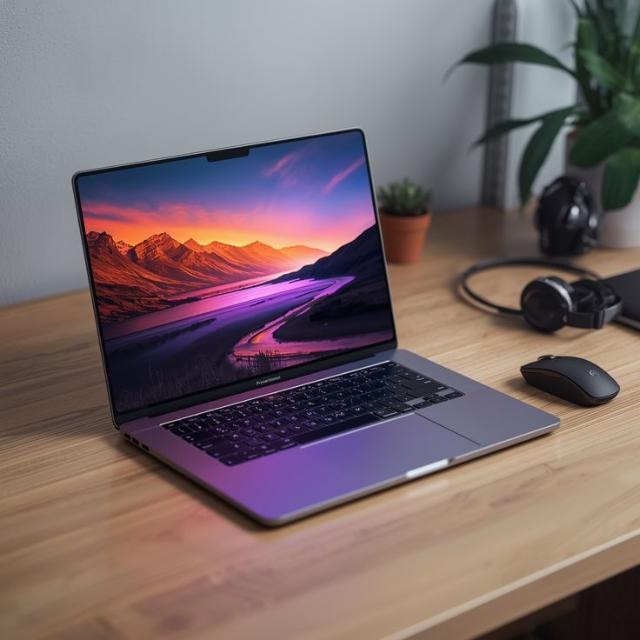laptop: (58, 106, 540, 532)
